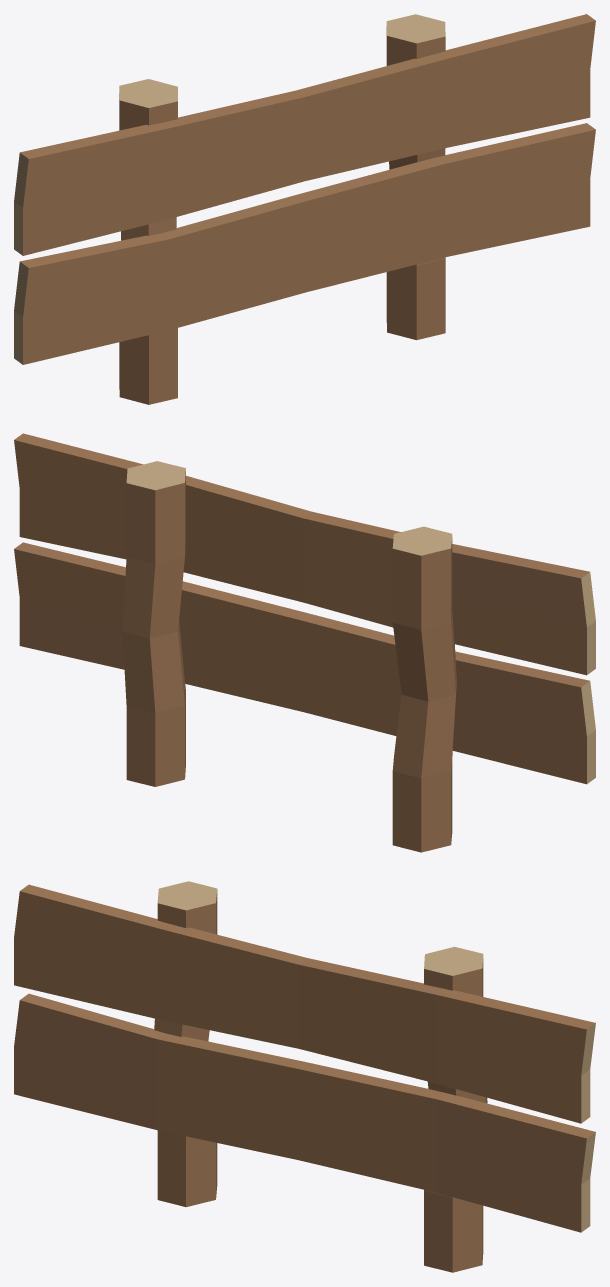
File: Fence02.fbx
3 renders of one model, top to bottom at view 1: azimuth 30°, elevation 25°; view 2: azimuth 150°, elevation 25°; view 3: azimuth 330°, elevation 25°, orthographic.
Parts seen in each view (by area): view 1: Fence02; view 2: Fence02; view 3: Fence02.
Part boxes in pixels (x1,y1,x2,y2): Fence02: (14,14,595,404); Fence02: (14,433,595,852); Fence02: (14,881,595,1272).
Bounding box in the file's own units: 2.02 × 1 × 0.25.
